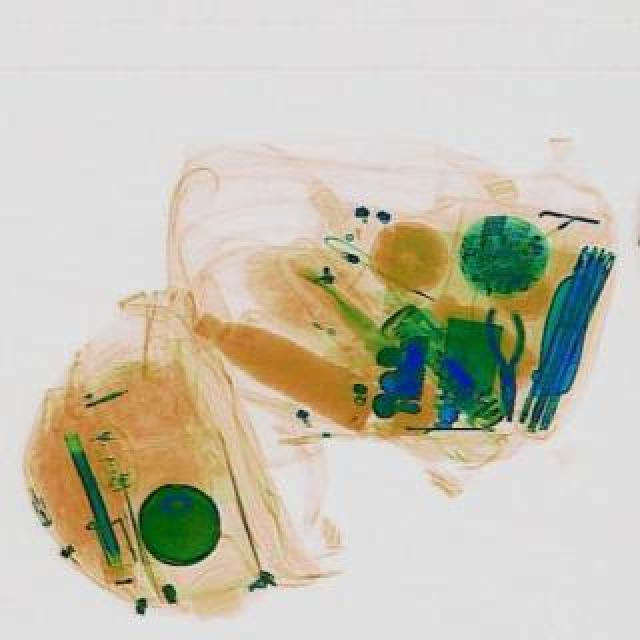wrench: (488, 308, 530, 422)
